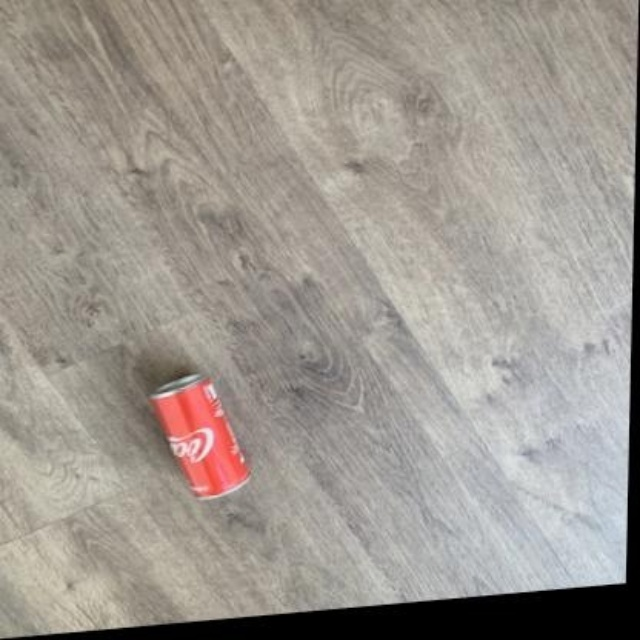trash: (149, 374, 248, 497)
